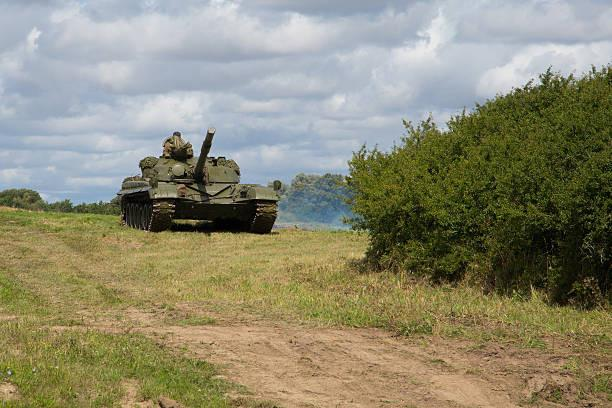tank: (119, 126, 279, 233)
